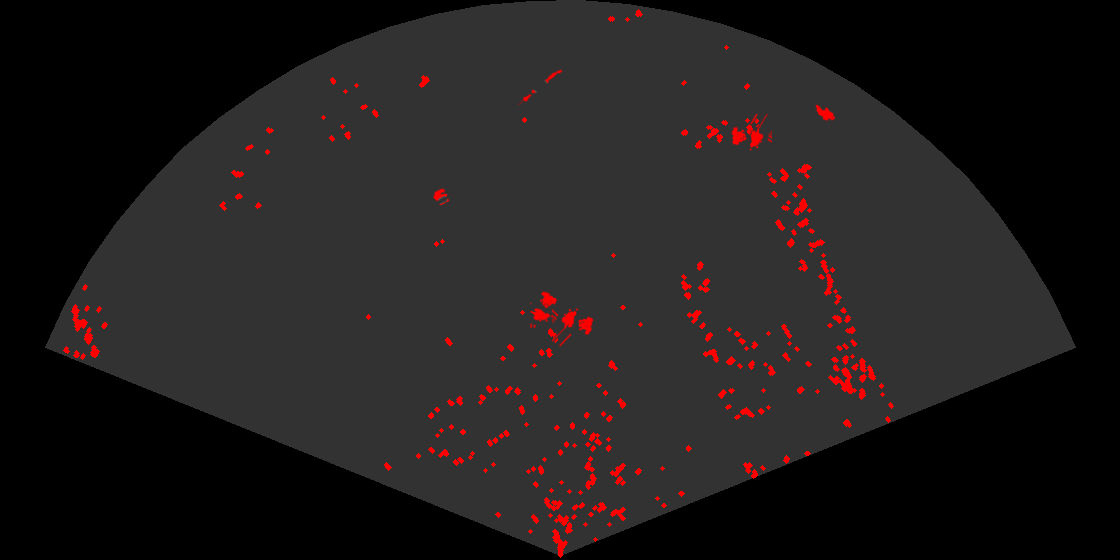AUV: (814, 103, 837, 123)
ball: (432, 187, 451, 207)
cage: (552, 307, 595, 346), (730, 114, 772, 152), (530, 290, 559, 328)
chain: (516, 68, 564, 105)
